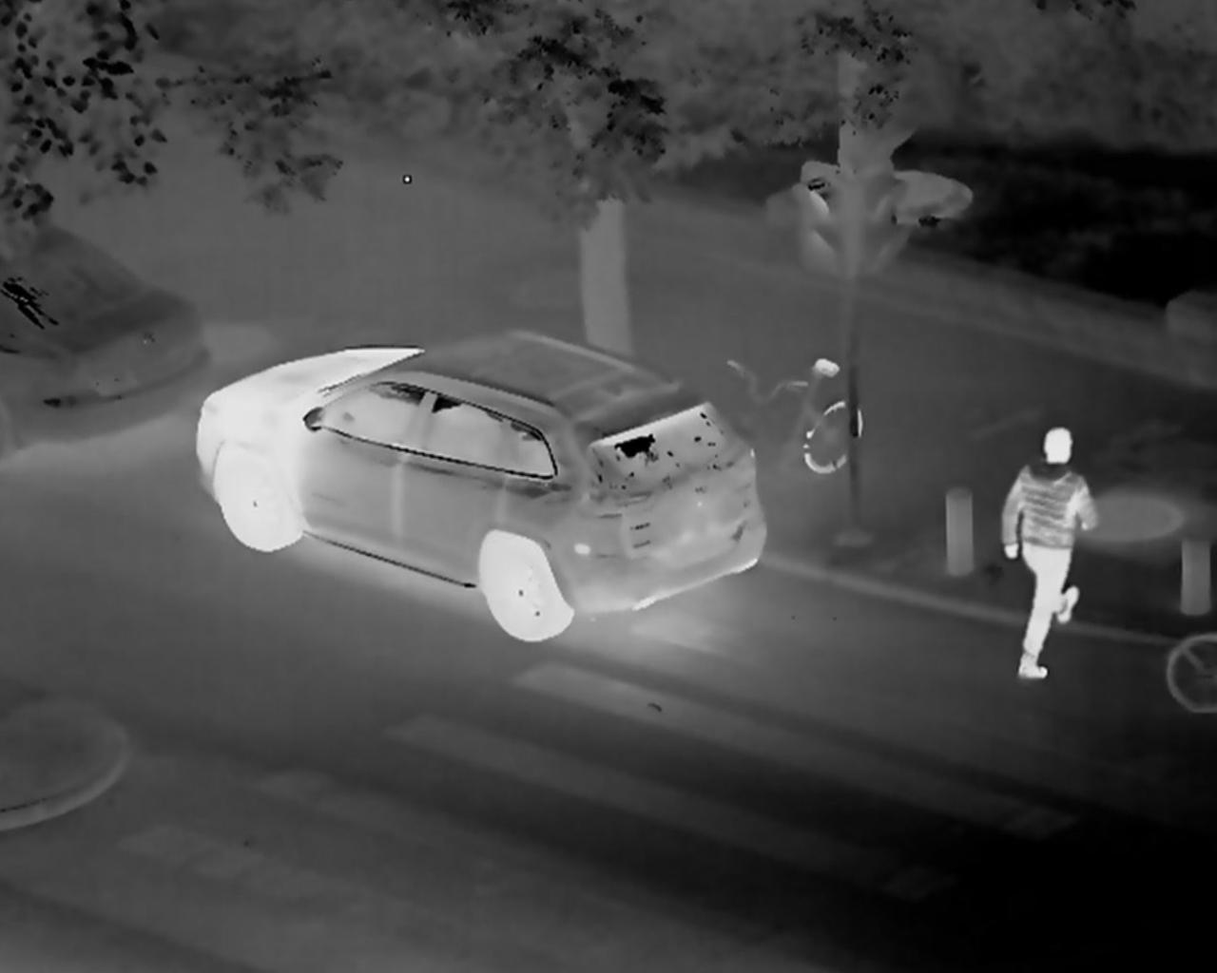person: (992, 426, 1095, 686)
